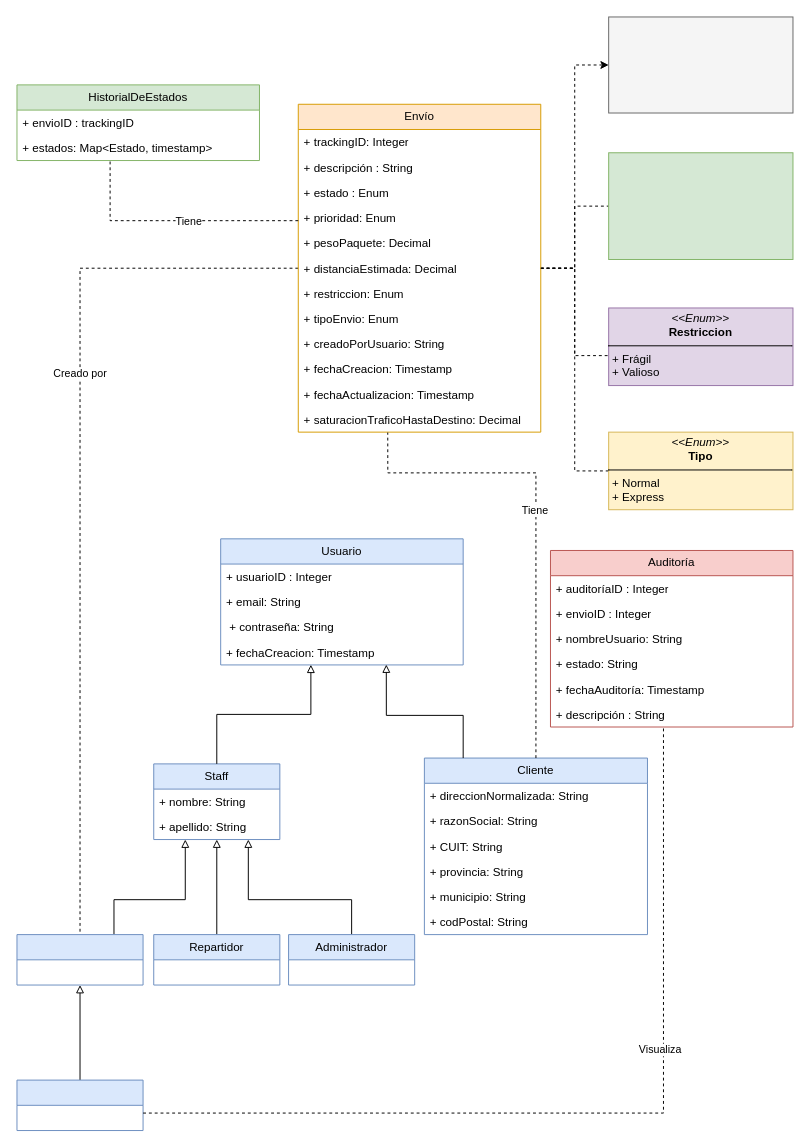
Some shapes in this 810 by 1148 pixel diagram are drawn without their labels. The shapes that lost their labels are listed below. From the top down, each one's centre as x and y in pixels, then its label:
the point at 700,64: <<Enum>> Prioridad + Alta + Media + Baja
the point at 700,205: <<Enum>> Estado + En sucursal + En transito + Entregado + Cancelado
the point at 79,959: Operador
the point at 79,1105: Supervisor
